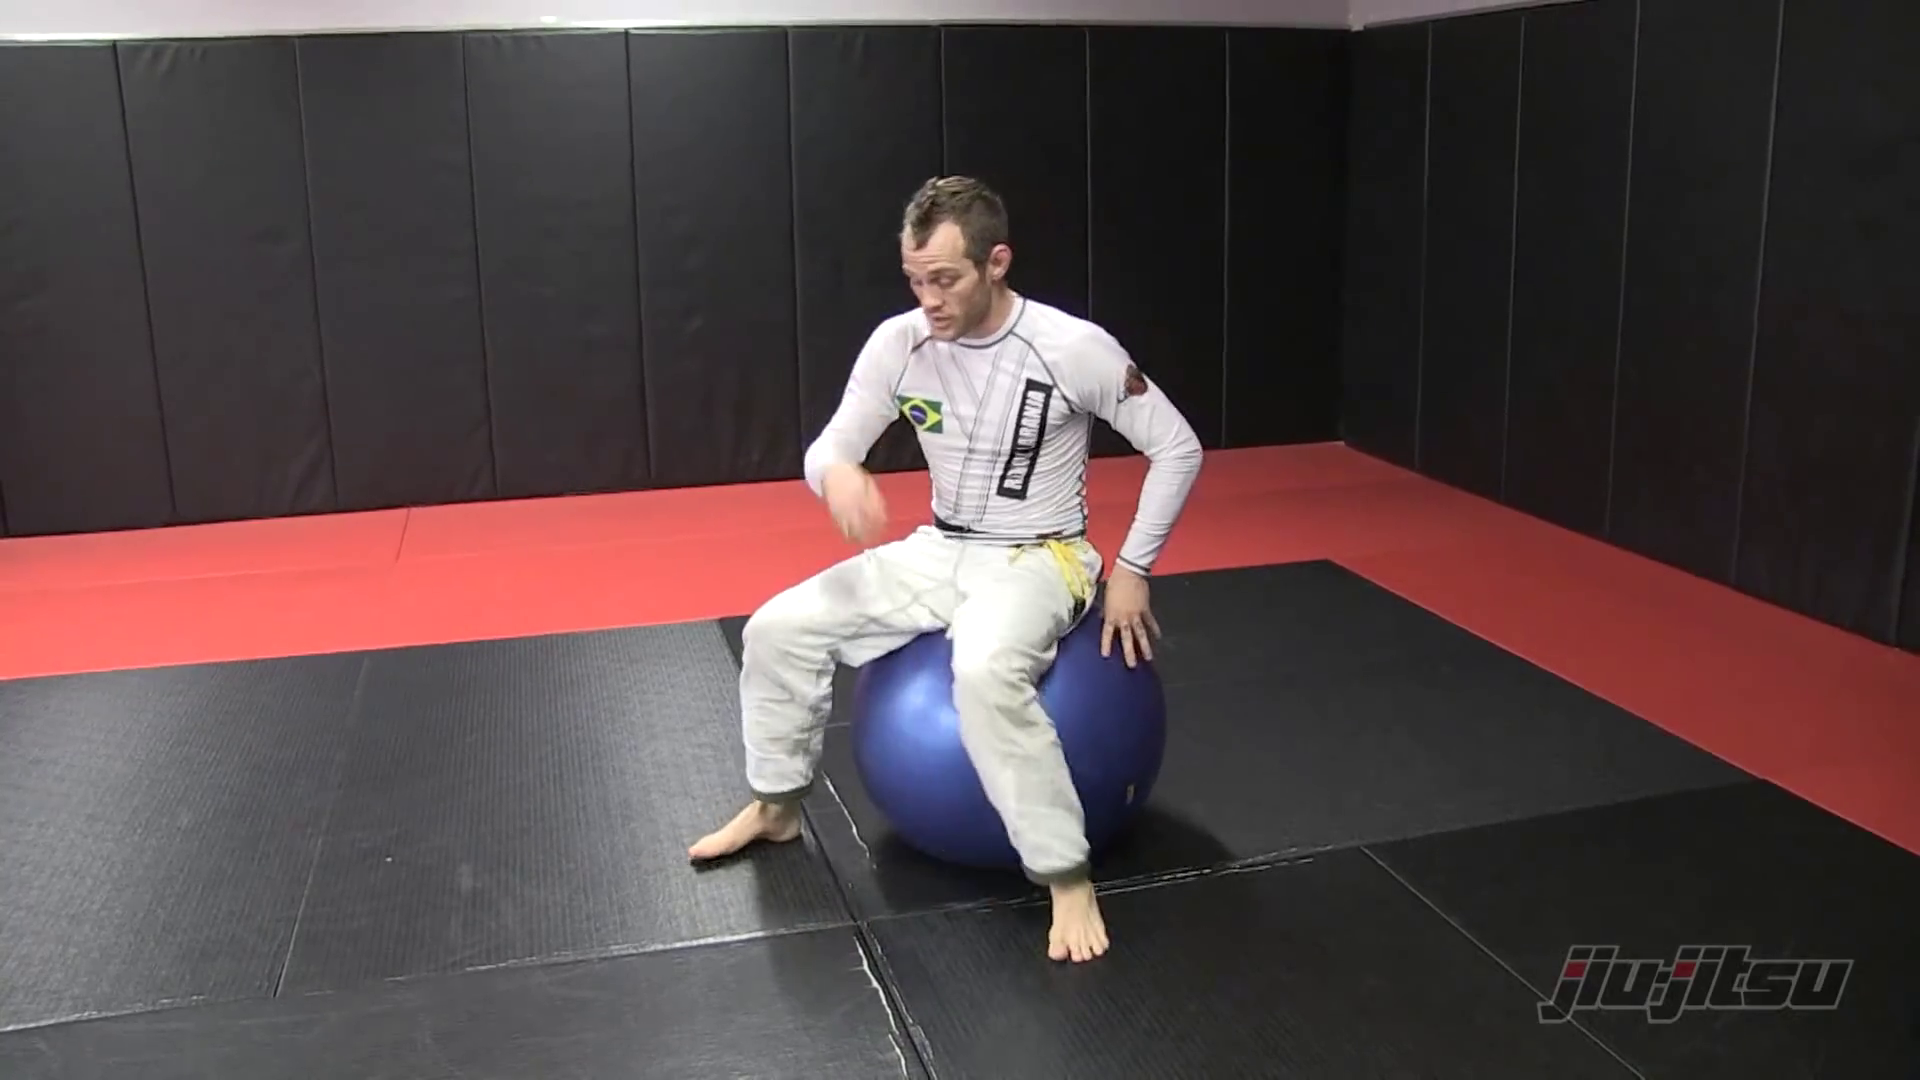yogaball: (847, 611, 1195, 899)
